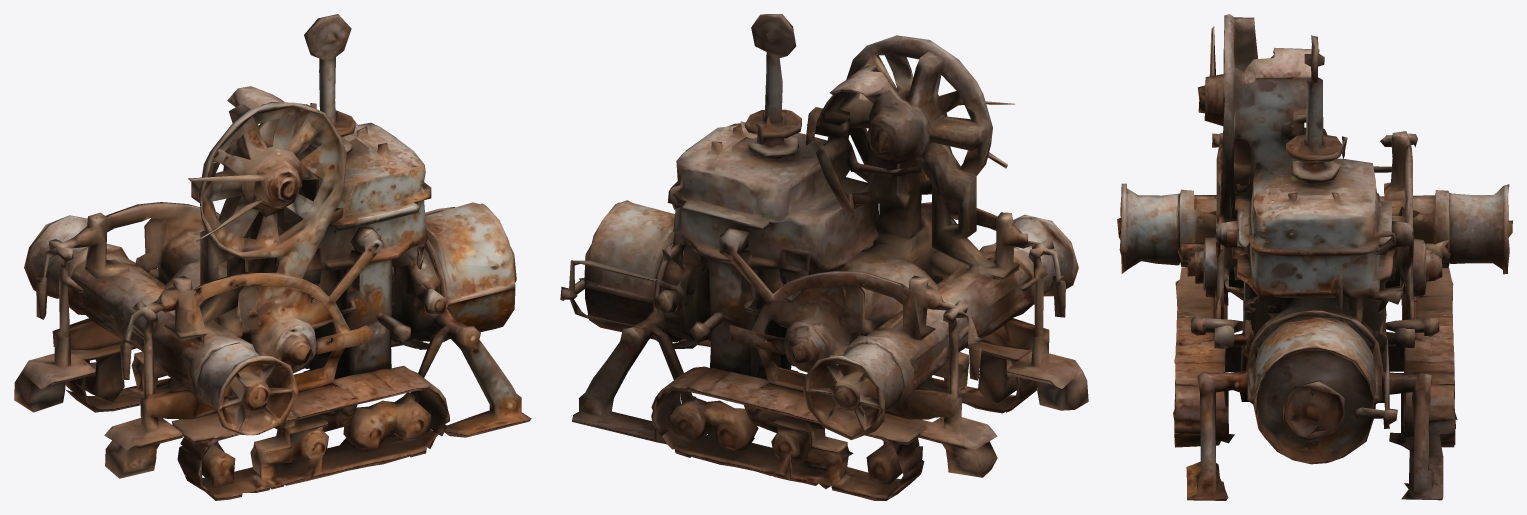
File: tripo_convert_72640701-2f5c-4cc8-9dd2-11e1a2156d6c.fbx
The picture shows the model from 3 angles, left to right: view 1: azimuth 30°, elevation 25°; view 2: azimuth 150°, elevation 25°; view 3: azimuth 270°, elevation 25°; orthographic projection.
Visible parts, largest first — view 1: tripo_node_72640701; view 2: tripo_node_72640701; view 3: tripo_node_72640701.
Boxes of the visible parts, x1,y1,x2,y2 form: tripo_node_72640701: (14, 14, 531, 500); tripo_node_72640701: (560, 14, 1088, 500); tripo_node_72640701: (1117, 14, 1512, 500).
Size of the model in its own units: 1 by 0.8616 by 0.7802.
1 material, 1 textured.
